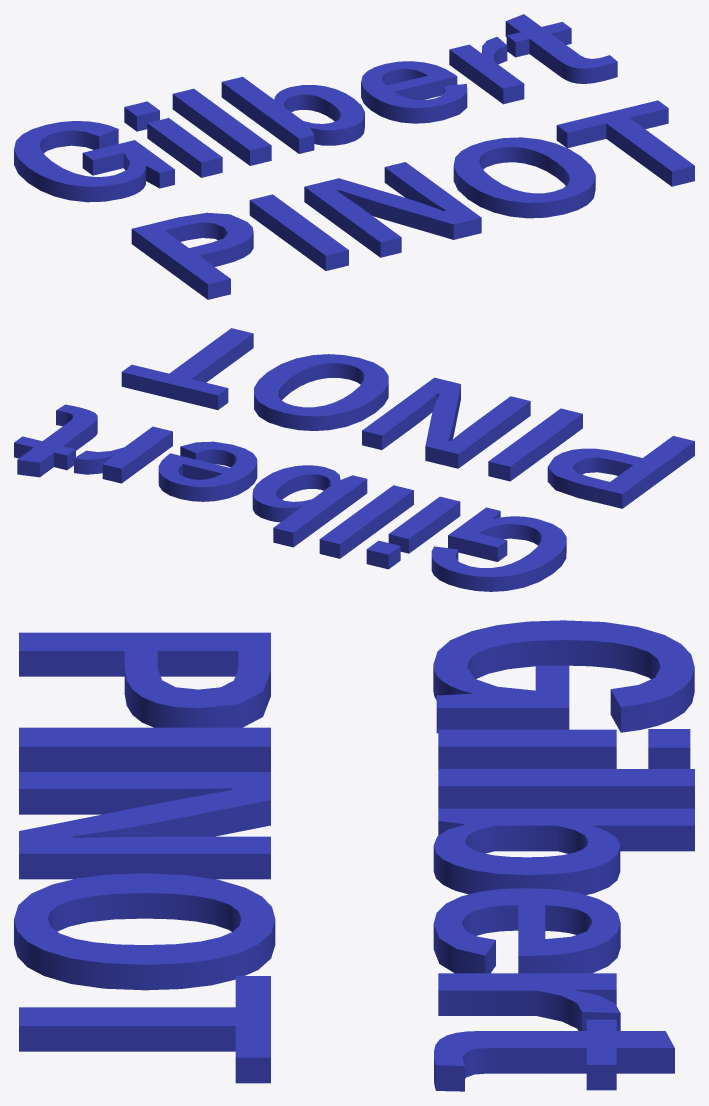
Rendered from gilbertpinot.fbx.
The picture shows the model from 3 angles, top to bottom: view 1: azimuth 30°, elevation 25°; view 2: azimuth 150°, elevation 25°; view 3: azimuth 270°, elevation 25°; orthographic projection. The views are drawn at different scales.
Visible parts, largest first — view 1: node_id424 (×2); view 2: node_id424 (×2); view 3: node_id424 (×2).
Part boxes in pixels (x1=…): node_id424 (×2): x1=14, y1=14, x2=694, y2=299; node_id424 (×2): x1=14, y1=328, x2=694, y2=591; node_id424 (×2): x1=14, y1=620, x2=694, y2=1091.
Bounding box in the file's own units: 0.7011 × 0.0188 × 0.4528.
